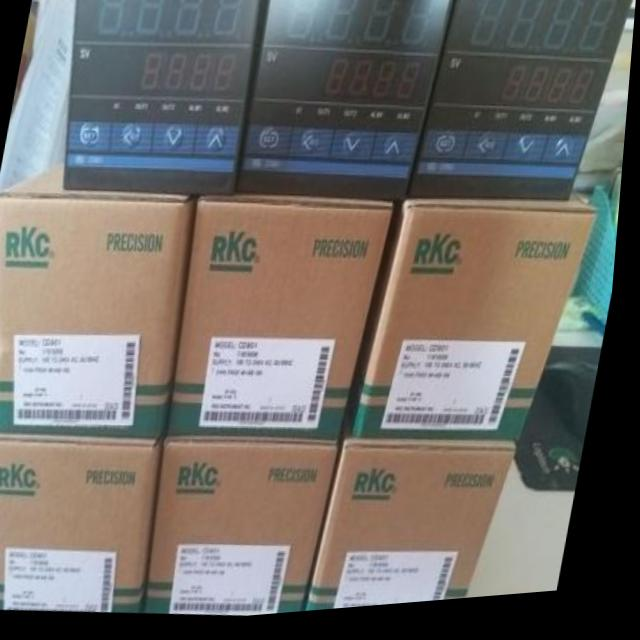box: (356, 197, 604, 451), (171, 198, 406, 447), (0, 160, 203, 445), (234, 0, 457, 212), (412, 0, 636, 210), (67, 0, 266, 200), (314, 447, 523, 617), (151, 445, 349, 621), (0, 434, 167, 616)
